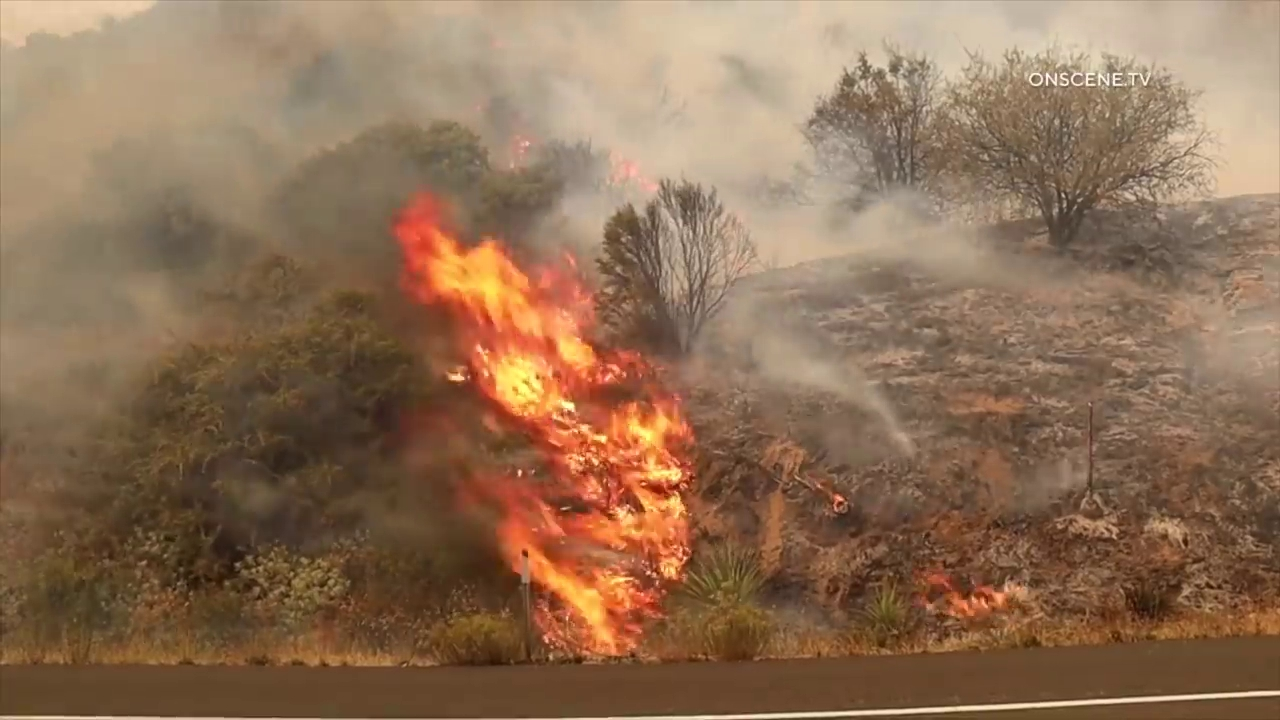forest_fire: (393, 193, 691, 654), (926, 573, 1020, 619)
